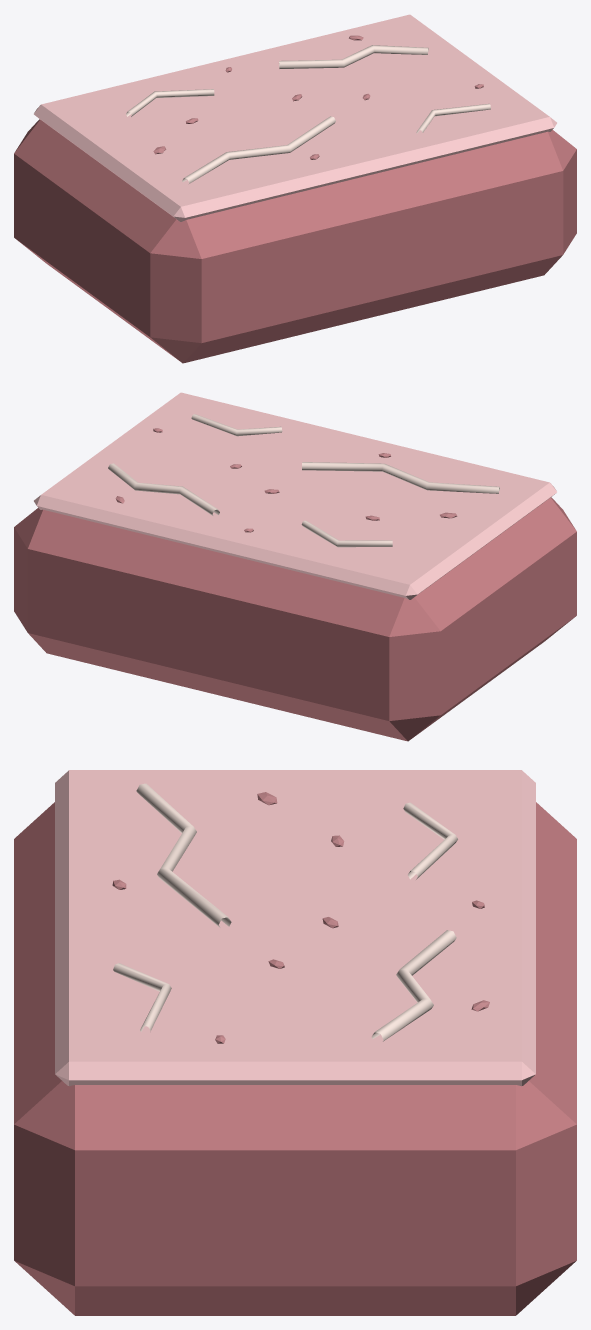
The model's file is ham.glb.
3 renders of one model, top to bottom at view 1: azimuth 30°, elevation 25°; view 2: azimuth 150°, elevation 25°; view 3: azimuth 270°, elevation 25°, orthographic. The views are drawn at different scales.
Visible parts, largest first — view 1: ham_rind, ham_cut_surface, fat_marble_0, fat_marble_1, fat_marble_2, fat_marble_3; view 2: ham_rind, ham_cut_surface, fat_marble_0, fat_marble_1, fat_marble_2, fat_marble_3; view 3: ham_rind, ham_cut_surface, fat_marble_0, fat_marble_1, fat_marble_2, fat_marble_3.
Part boxes in pixels (<box>): ham_rind: <box>14,119,576,363</box>; ham_cut_surface: <box>34,14,556,221</box>; fat_marble_0: <box>182,116,335,183</box>; fat_marble_1: <box>279,45,428,68</box>; fat_marble_2: <box>126,89,214,116</box>; fat_marble_3: <box>416,103,490,133</box>; ham_rind: <box>14,497,576,741</box>; ham_cut_surface: <box>34,392,556,599</box>; fat_marble_0: <box>302,462,499,493</box>; fat_marble_1: <box>108,463,219,515</box>; fat_marble_2: <box>301,520,392,547</box>; fat_marble_3: <box>191,414,282,436</box>; ham_rind: <box>14,802,576,1315</box>; ham_cut_surface: <box>55,770,535,1086</box>; fat_marble_0: <box>136,783,231,927</box>; fat_marble_1: <box>371,930,456,1041</box>; fat_marble_2: <box>403,802,457,879</box>; fat_marble_3: <box>113,963,171,1031</box>.
Bounding box in the file's own units: 0.34 × 0.1257 × 0.24.
